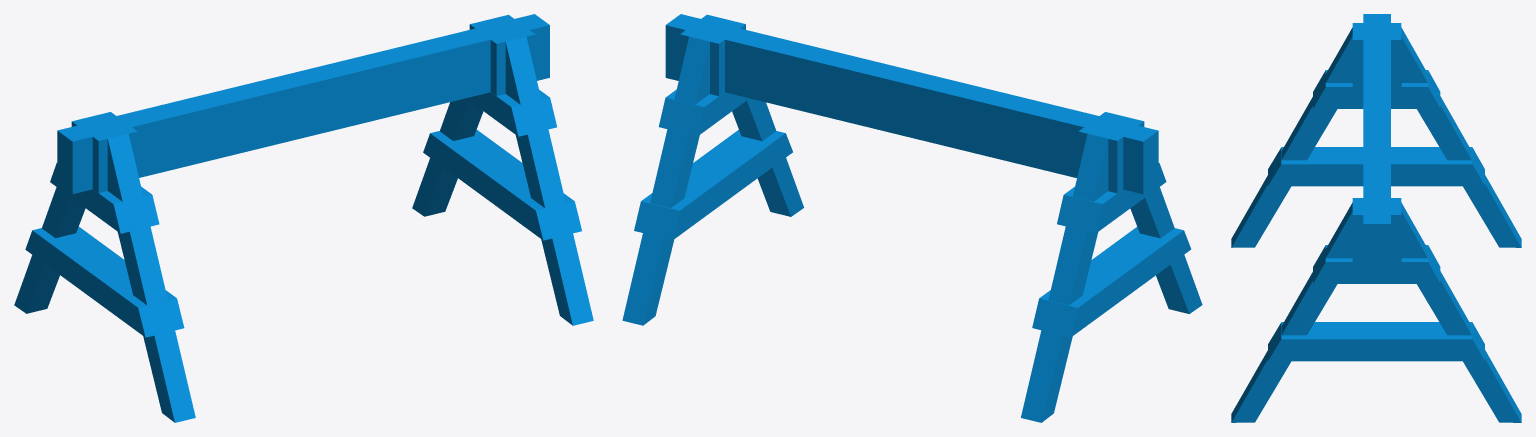
Rendered from police barricade (without ramp).fbx.
3 views of the same model, side by side, from view 1: azimuth 30°, elevation 25°; view 2: azimuth 150°, elevation 25°; view 3: azimuth 270°, elevation 25° (orthographic). The views are drawn at different scales.
Parts seen in each view (by area): view 1: barricade; view 2: barricade; view 3: barricade.
Part boxes in pixels (box(x1,y1,x2,y2)): barricade: box(14, 14, 593, 422); barricade: box(622, 14, 1202, 422); barricade: box(1231, 14, 1521, 422).
Size of the model in its own units: 26.74 by 12.58 by 15.6.
